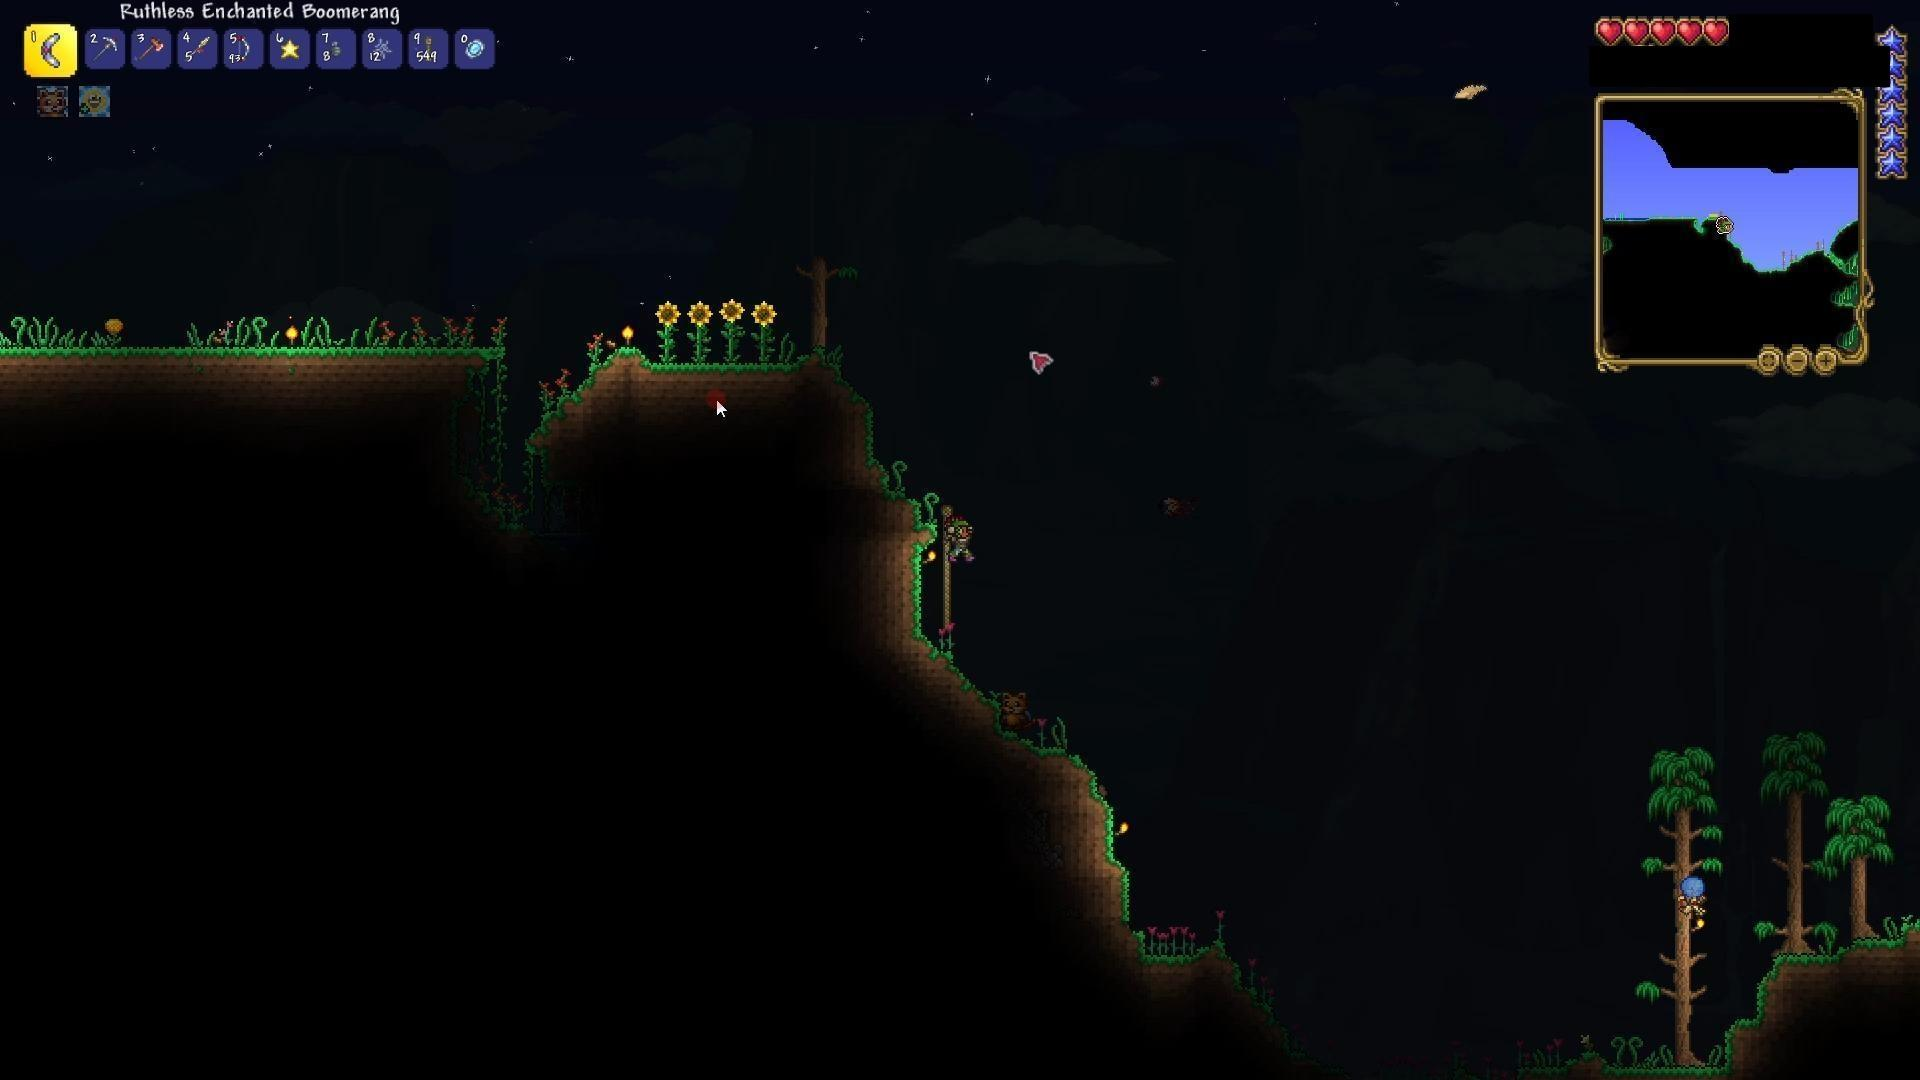dirt: (923, 661, 1112, 876), (1702, 916, 1920, 1075), (820, 364, 945, 534), (0, 335, 508, 372), (1516, 1023, 1763, 1080), (524, 347, 632, 465), (625, 347, 818, 386), (1134, 920, 1232, 975), (894, 542, 927, 637), (1106, 855, 1137, 923)
heart: (1702, 17, 1733, 51), (1593, 16, 1626, 46), (1676, 15, 1704, 50), (1650, 16, 1676, 49), (1625, 15, 1651, 44)
tree: (1650, 732, 1710, 1080), (1753, 721, 1815, 947), (1836, 782, 1895, 934)
